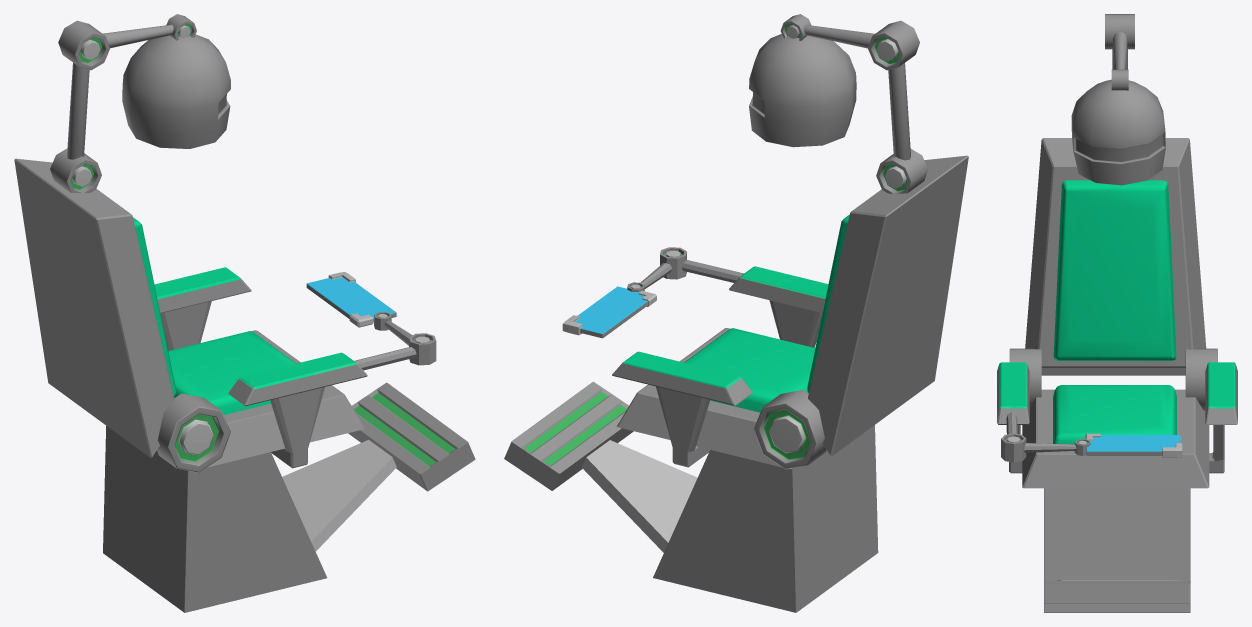
The model's file is SM_Chair_01.fbx.
The picture shows the model from 3 angles, left to right: view 1: azimuth 30°, elevation 25°; view 2: azimuth 150°, elevation 25°; view 3: azimuth 270°, elevation 25°; orthographic projection. The views are drawn at different scales.
Visible parts, largest first — view 1: SM_Chair_01; view 2: SM_Chair_01; view 3: SM_Chair_01.
Boxes of the visible parts, x1,y1,x2,y2 form: SM_Chair_01: [14, 14, 475, 612]; SM_Chair_01: [504, 14, 968, 612]; SM_Chair_01: [997, 14, 1237, 612].
Bounding box in the file's own units: 132 × 80.52 × 188.
Materials: 1 (1 with a texture image).
